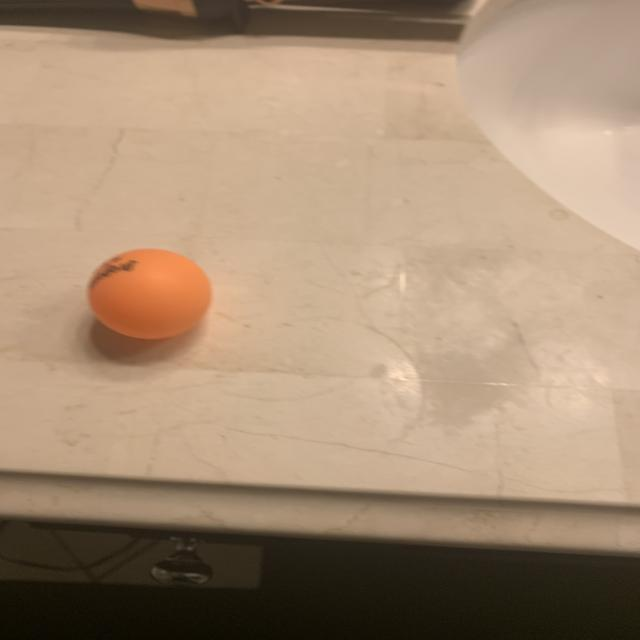ping-pong-ball: (77, 238, 218, 346)
